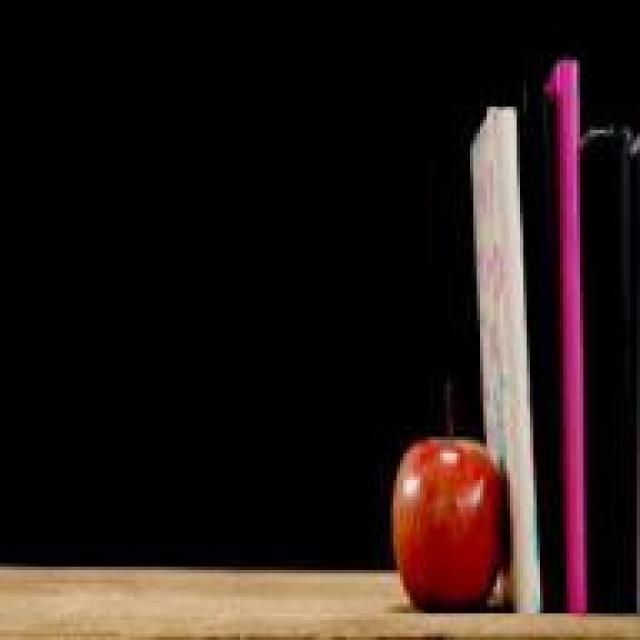apple: (390, 446, 497, 606)
